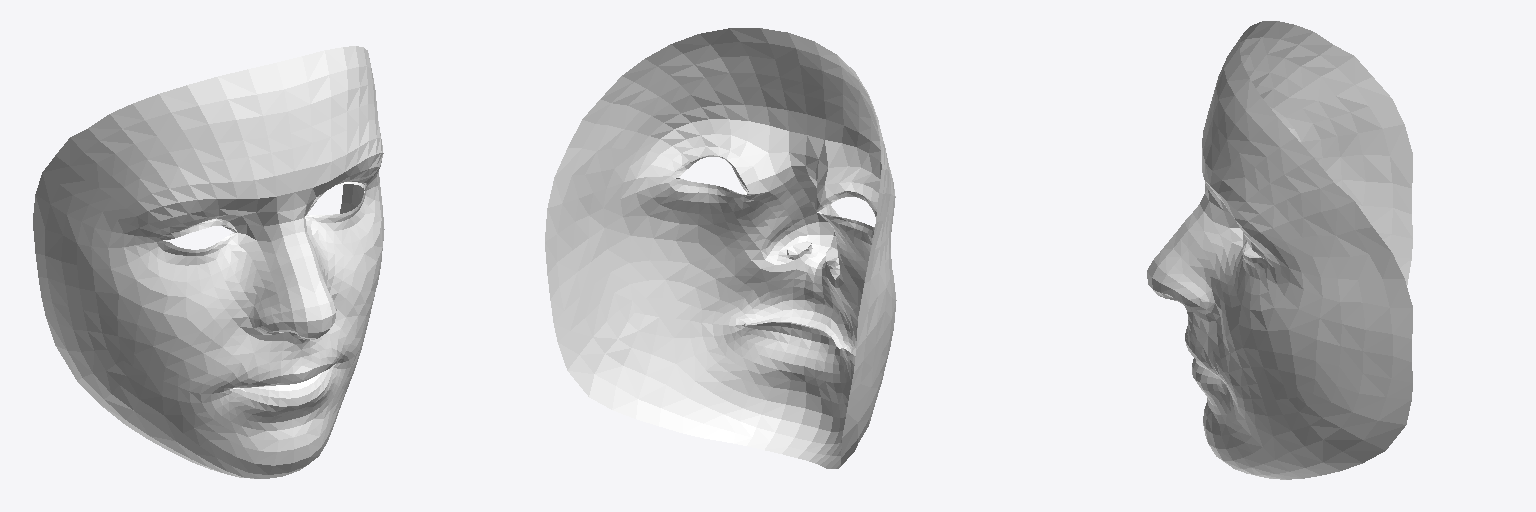
Rendered from eyeLookUp_L.obj.
The picture shows the model from 3 angles: view 1: azimuth 30°, elevation 25°; view 2: azimuth 150°, elevation 25°; view 3: azimuth 270°, elevation 25°; orthographic projection.
Parts seen in each view (by area): view 1: default; view 2: default; view 3: default.
Boxes of the visible parts, x1,y1,x2,y2 form: default: [33, 46, 384, 478]; default: [545, 28, 896, 468]; default: [1147, 21, 1412, 479].
Bounding box in the file's own units: 0.1447 × 0.182 × 0.1055.